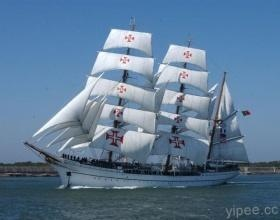fanchuan: (15, 20, 253, 189)
